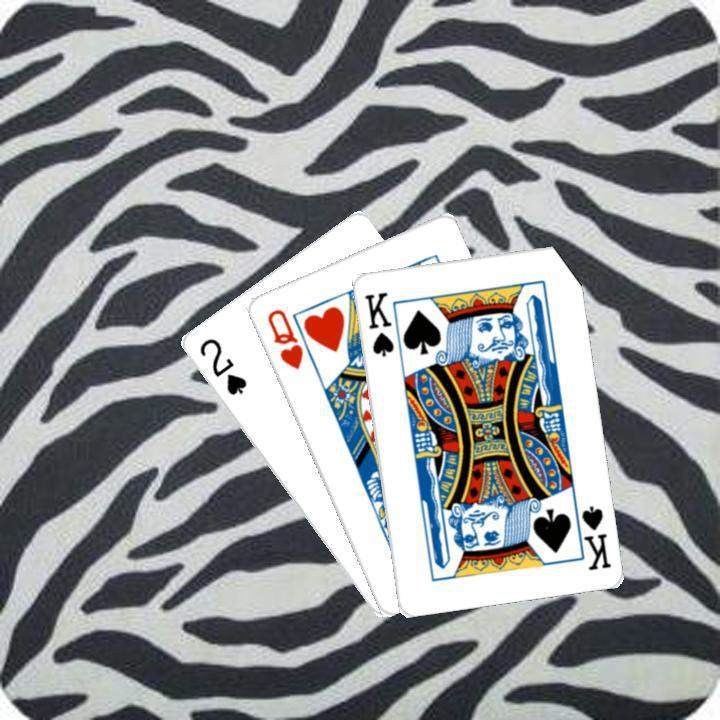2: (194, 333, 249, 397)
K: (569, 497, 612, 572), (359, 287, 395, 359)
Q: (262, 304, 305, 372)
